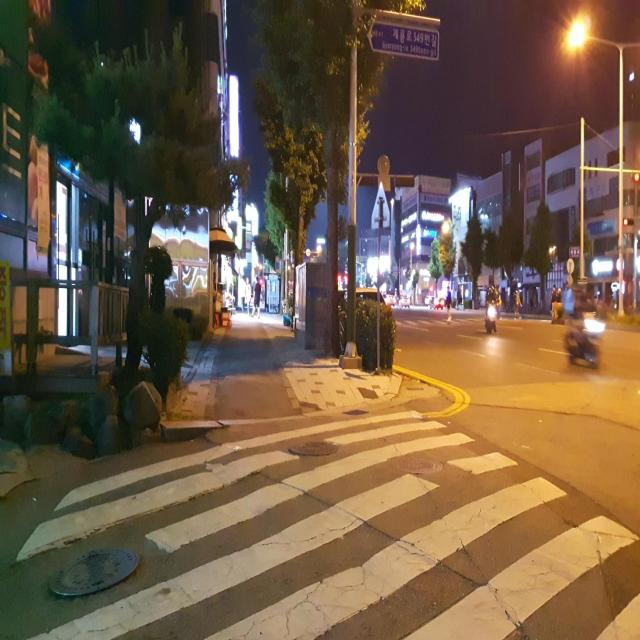횡단보도: (15, 403, 640, 640)
